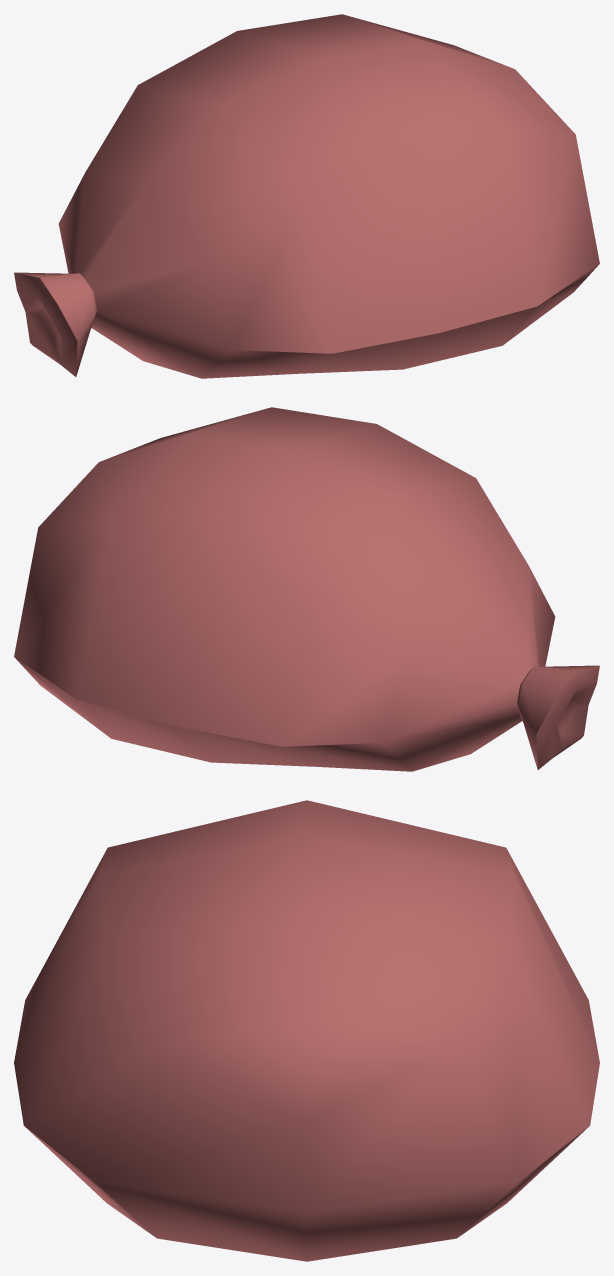
Rendered from Bag_2.fbx.
The picture shows the model from 3 angles, top to bottom: view 1: azimuth 30°, elevation 25°; view 2: azimuth 150°, elevation 25°; view 3: azimuth 270°, elevation 25°; orthographic projection. The views are drawn at different scales.
Parts seen in each view (by area): view 1: Bag_2; view 2: Bag_2; view 3: Bag_2.
Part boxes in pixels (left/top/right/bottom): Bag_2: left=14, top=14, right=599, bottom=378; Bag_2: left=14, top=407, right=599, bottom=771; Bag_2: left=14, top=800, right=599, bottom=1261.
Size of the model in its own units: 48.75 by 23.42 by 38.8.
